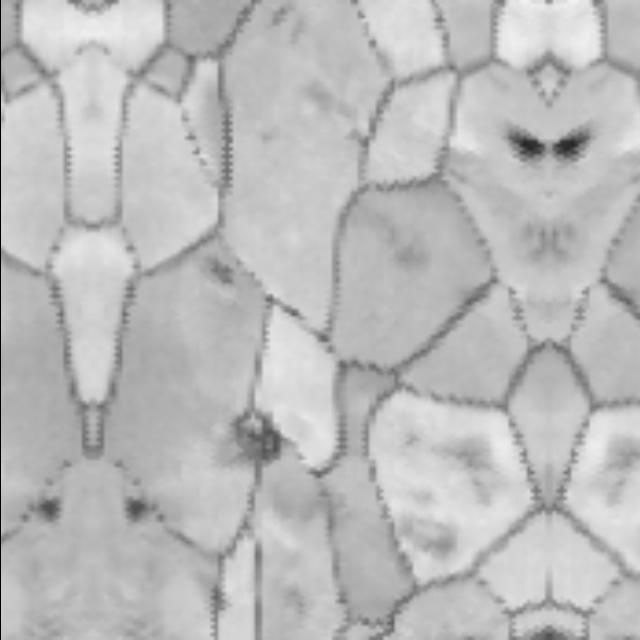good_void: (427, 428, 502, 509), (392, 502, 468, 565), (228, 403, 287, 466), (597, 430, 640, 506), (502, 118, 548, 165), (547, 120, 589, 165), (202, 250, 236, 290), (32, 494, 63, 526), (124, 495, 153, 526), (212, 586, 223, 607)
